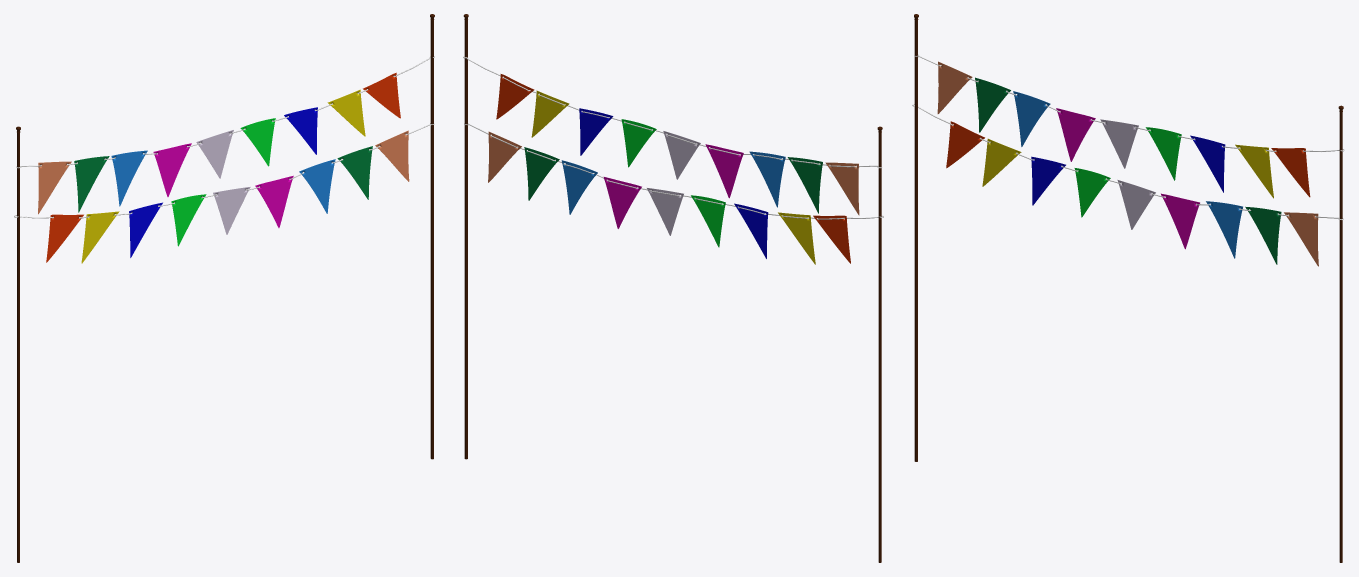
The model's file is flag option 2.fbx.
3 renders of one model, left to right at view 1: azimuth 30°, elevation 25°; view 2: azimuth 150°, elevation 25°; view 3: azimuth 330°, elevation 25°, orthographic. The views are drawn at different scales.
Parts seen in each view (by area): view 1: Flags.001, Flags.002, pole.001, pole; view 2: Flags.002, Flags.001, pole.001, pole, string.002, string.001; view 3: Flags.002, Flags.001, pole.001, pole.
Part boxes in pixels (<box>): Flags.001: <box>46,130,409,263</box>; Flags.002: <box>38,72,400,214</box>; pole.001: <box>430,14,434,459</box>; pole: <box>16,126,20,562</box>; Flags.002: <box>496,74,859,215</box>; Flags.001: <box>488,131,850,264</box>; pole.001: <box>463,14,468,459</box>; pole: <box>877,126,882,562</box>; string.002: <box>463,56,881,168</box>; string.001: <box>464,123,883,219</box>; Flags.002: <box>937,61,1310,198</box>; Flags.001: <box>946,121,1318,266</box>; pole.001: <box>1338,105,1343,562</box>; pole: <box>914,14,918,461</box>.
Bounding box in the file's own units: 180 × 182 × 2.12.
